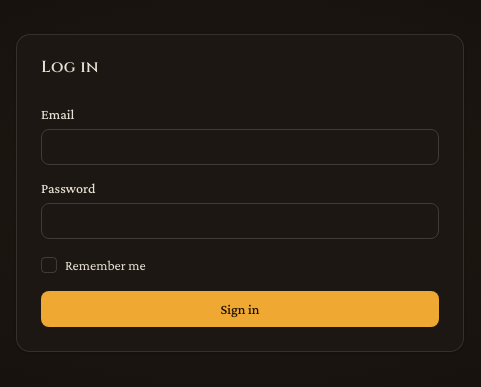
Scenario: Login page › shows 'Invalid credentials' on failed sign-in
Type "bad@test.com" into the field labelled "Email" at {"x": 240, "y": 147}, box x1=41 y1=129 x2=439 y2=165
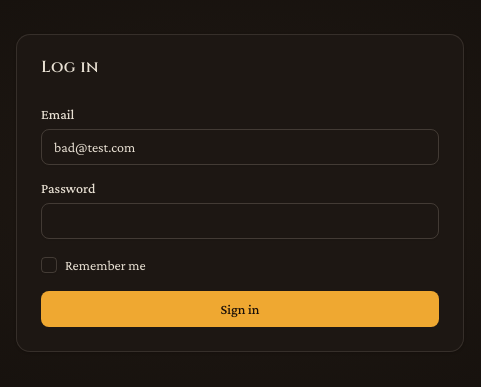
Type "wrong" into the password field labelled "Password" at {"x": 240, "y": 221}, box x1=41 y1=203 x2=439 y2=239
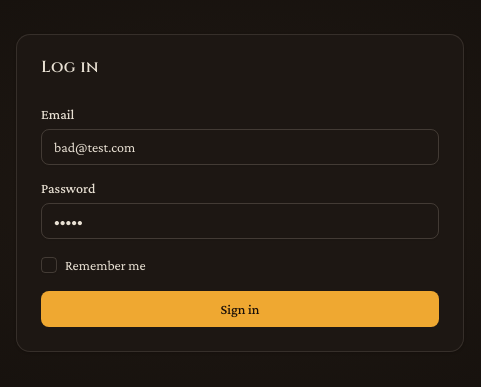
Click the button "Sign in" at {"x": 240, "y": 309}, box x1=41 y1=291 x2=439 y2=327
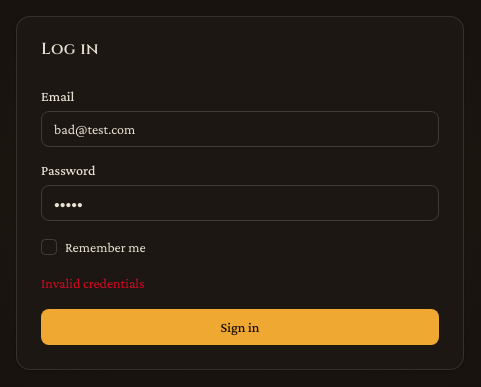
Result: the message reads "Invalid credentials" at x1=41 y1=275 x2=144 y2=291
